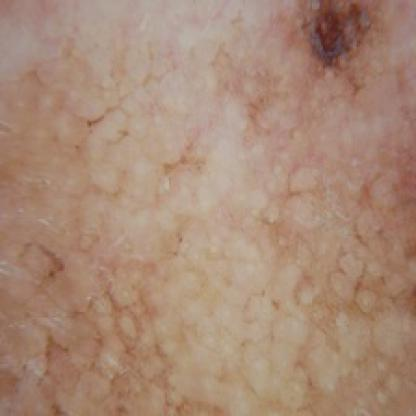malignant: (232, 0, 412, 219)
